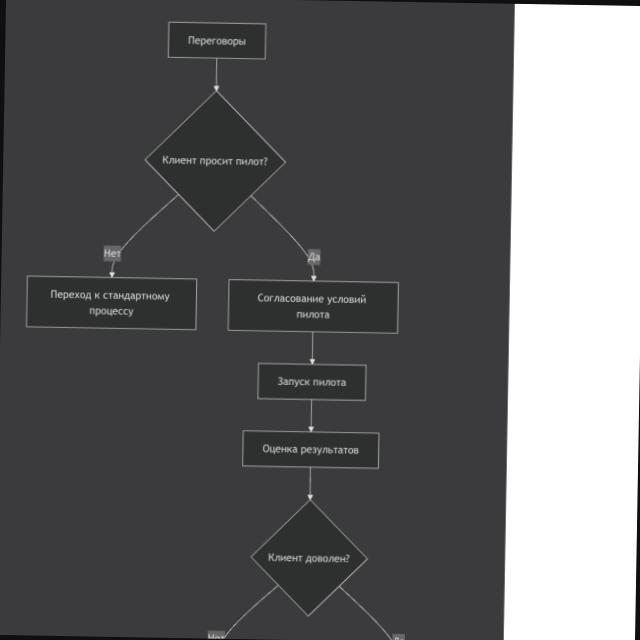arrow: (247, 194, 320, 280), (105, 192, 178, 276), (210, 60, 224, 90), (304, 470, 316, 500), (307, 401, 316, 433), (308, 332, 316, 363)
diamond: (146, 93, 284, 230), (252, 500, 366, 614)
rectangle: (228, 279, 398, 333), (26, 276, 196, 329), (243, 431, 379, 469), (258, 363, 366, 400), (168, 22, 266, 59)
text_region: (302, 250, 331, 264), (99, 247, 126, 259)
